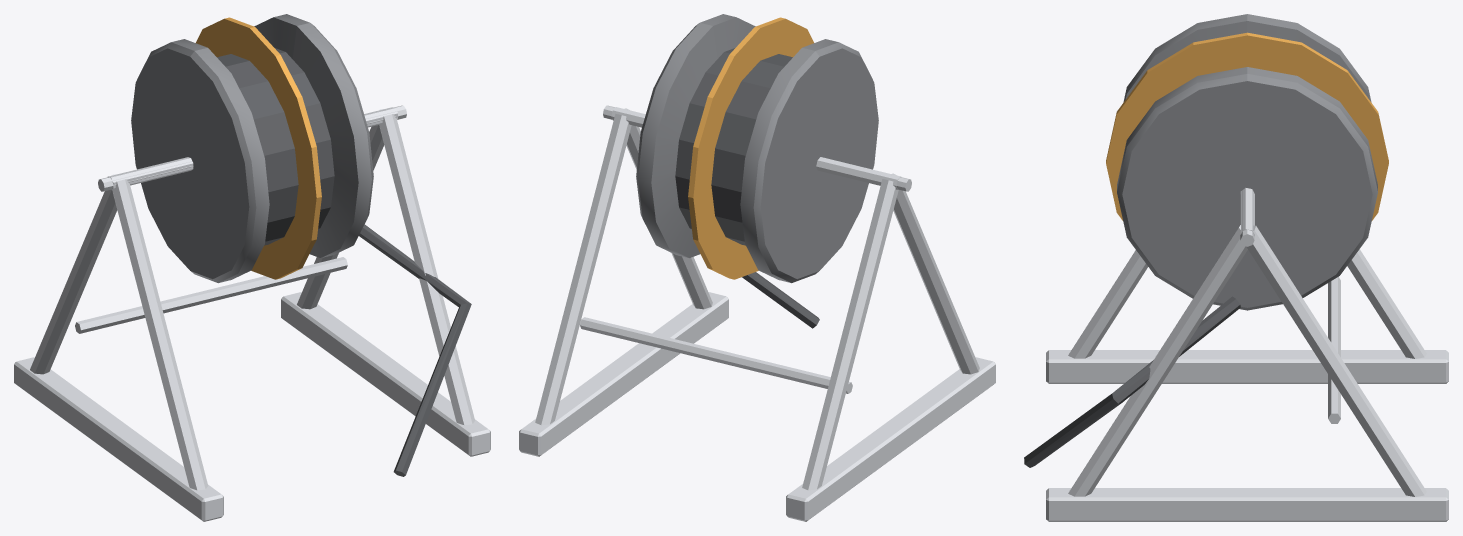
File: 35511_Cable_Drum_on_a_Stand__TV_Studio_and_Broadcast_Gallery_.glb
The picture shows the model from 3 angles, left to right: view 1: azimuth 30°, elevation 25°; view 2: azimuth 150°, elevation 25°; view 3: azimuth 270°, elevation 25°; orthographic projection. The views are drawn at different scales.
Parts seen in each view (by area): view 1: cable-drum-on-stand, drum/gear, drum/accent, drum/dark; view 2: cable-drum-on-stand, drum/gear, drum/accent, drum/dark; view 3: drum/gear, cable-drum-on-stand, drum/accent.
Part boxes in pixels (left/top/right/bottom): cable-drum-on-stand: left=14, top=105, right=490, bottom=521; drum/gear: left=131, top=14, right=373, bottom=283; drum/accent: left=196, top=17, right=321, bottom=279; drum/dark: left=217, top=48, right=334, bottom=245; cable-drum-on-stand: left=519, top=105, right=995, bottom=521; drum/gear: left=636, top=14, right=878, bottom=283; drum/accent: left=688, top=17, right=813, bottom=279; drum/dark: left=675, top=48, right=792, bottom=245; drum/gear: left=1117, top=14, right=1377, bottom=310; cable-drum-on-stand: left=1024, top=188, right=1448, bottom=521; drum/accent: left=1106, top=32, right=1388, bottom=220.
Size of the model in its own units: 0.6915 by 0.84 by 0.7804.
